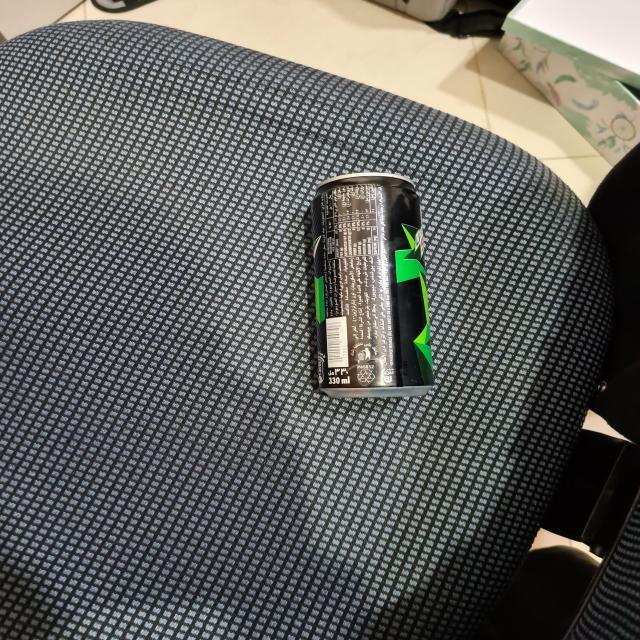can: (311, 171, 438, 400)
